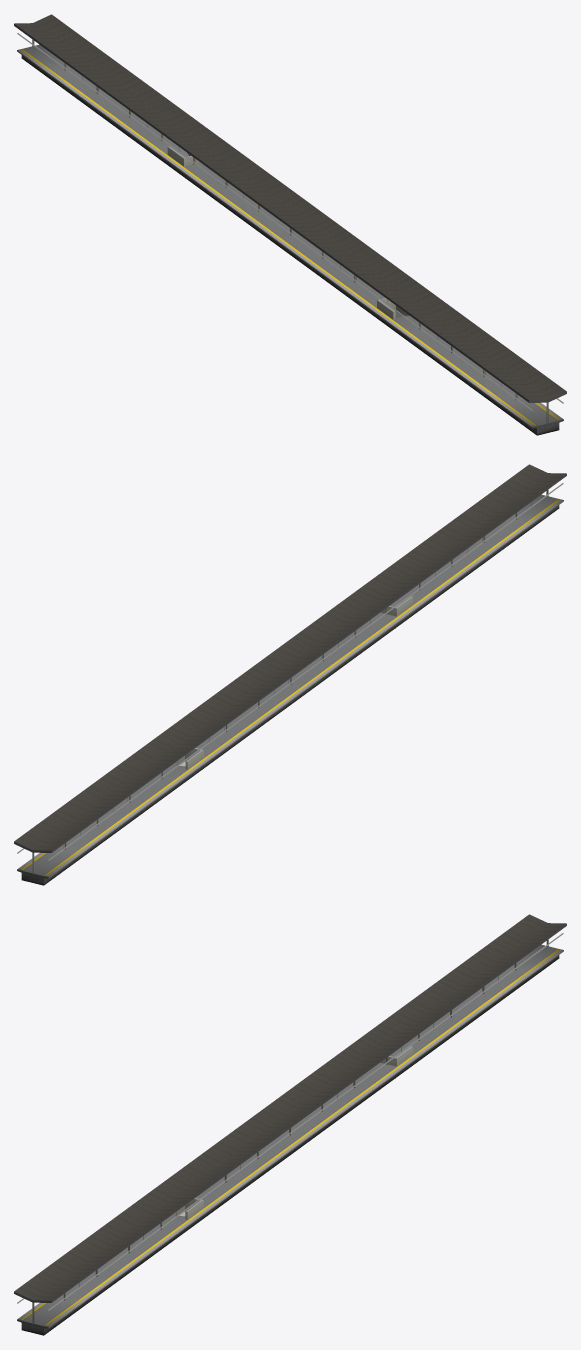
The model's file is W_HOME_32.glb.
The picture shows the model from 3 angles, top to bottom: view 1: azimuth 30°, elevation 25°; view 2: azimuth 150°, elevation 25°; view 3: azimuth 330°, elevation 25°; orthographic projection.
Visible parts, largest first — view 1: W_Home_Left; view 2: W_Home_Left; view 3: W_Home_Left.
Boxes of the visible parts, box(x1,y1,x2,y2) form: W_Home_Left: box(14, 14, 566, 435); W_Home_Left: box(14, 464, 566, 885); W_Home_Left: box(14, 914, 566, 1335).
Bounding box in the file's own units: 16.88 × 17.18 × 400.
45 materials, 44 textured.
